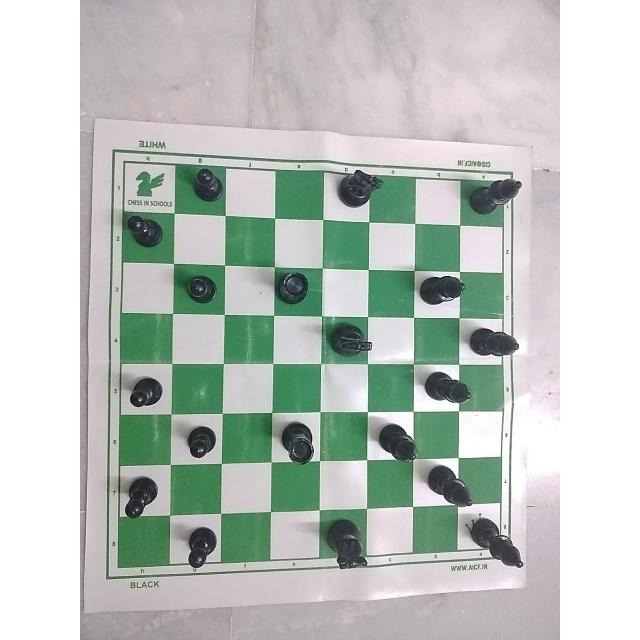black-bishop: (460, 520, 532, 573), (470, 168, 526, 222), (420, 365, 468, 425), (470, 318, 520, 368), (426, 465, 476, 515), (419, 269, 466, 319), (365, 423, 420, 464)
black-knight: (322, 515, 372, 575), (326, 315, 376, 371), (332, 165, 390, 209)
black-pawn: (107, 470, 167, 527), (180, 519, 223, 575), (185, 162, 227, 210), (124, 206, 162, 258), (125, 372, 165, 420), (182, 416, 218, 464), (178, 271, 219, 312)
black-rook: (274, 418, 321, 469), (277, 268, 316, 312)
